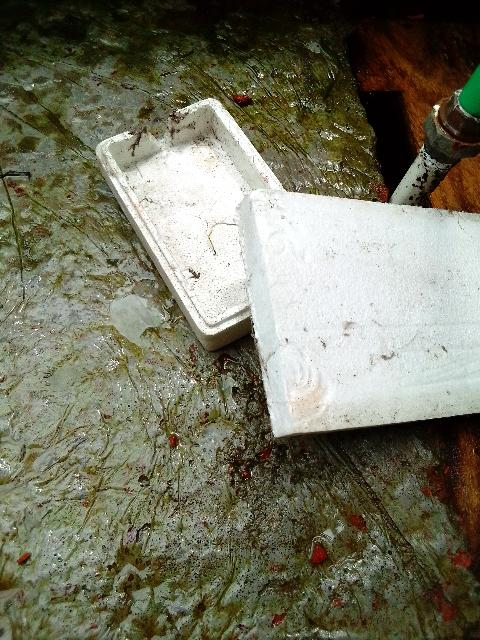cocksheet: (87, 87, 480, 442)
